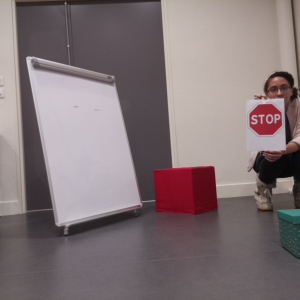big: (25, 56, 144, 227)
medium: (154, 167, 218, 214)
small: (276, 208, 300, 260)
